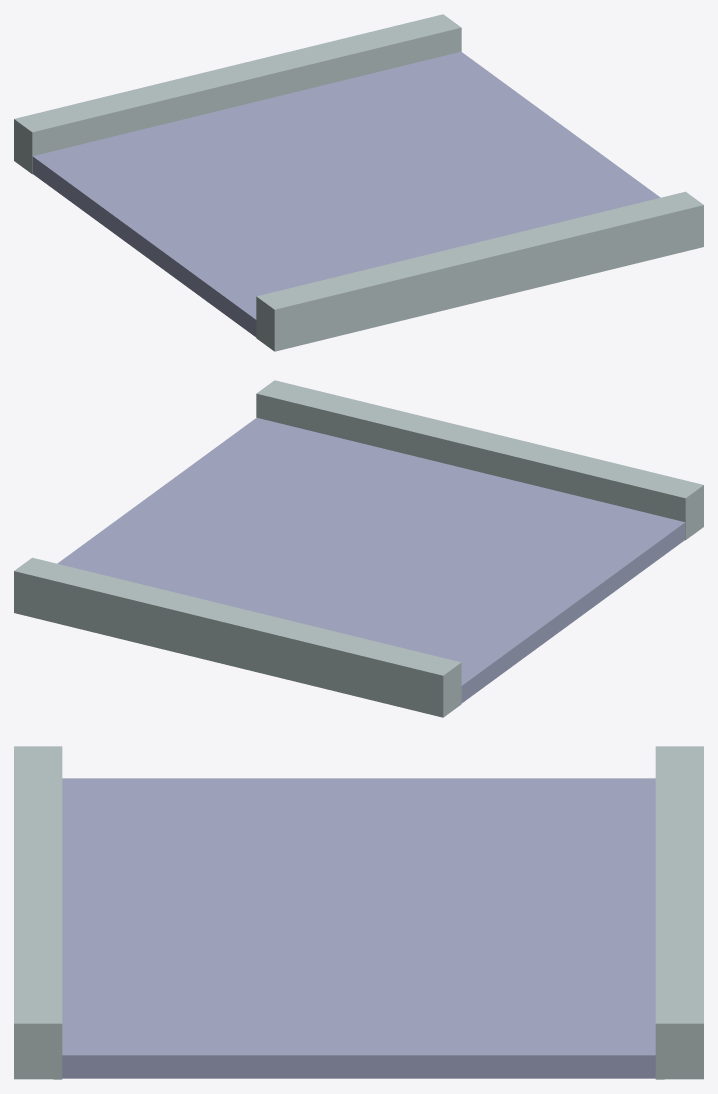
The model's file is Road3.fbx.
3 renders of one model, top to bottom at view 1: azimuth 30°, elevation 25°; view 2: azimuth 150°, elevation 25°; view 3: azimuth 270°, elevation 25°, orthographic. The views are drawn at different scales.
Visible parts, largest first — view 1: road_03; view 2: road_03; view 3: road_03.
Part boxes in pixels (bbox=[...]): road_03: bbox=[14, 14, 703, 351]; road_03: bbox=[14, 380, 703, 717]; road_03: bbox=[14, 746, 703, 1079].
Size of the model in its own units: 2500 by 235 by 2629.
